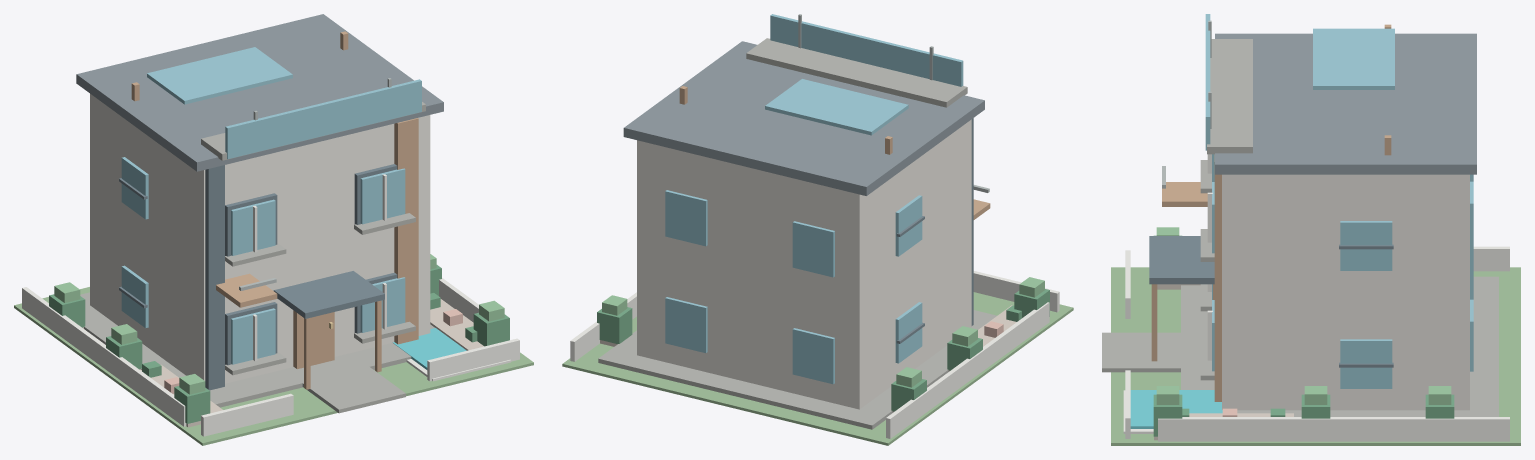
Rendered from building-type-u.gltf.
3 views of the same model, side by side, from view 1: azimuth 30°, elevation 25°; view 2: azimuth 150°, elevation 25°; view 3: azimuth 270°, elevation 25° (orthographic). The views are drawn at different scales.
Parts seen in each view (by area): view 1: Wall, DarkRoof, BlueGlass, Stone, Dark, White, Wood, Grass, TreeLeaf, LeafLight, WarmWall, Water; view 2: Wall, DarkRoof, BlueGlass, Stone, Grass, White, TreeLeaf, LeafLight, Dark, Wood; view 3: Wall, DarkRoof, Stone, BlueGlass, White, Grass, Wood, Dark, TreeLeaf, Water, LeafLight, WarmWall.
Part boxes in pixels (x1,y1,x2,y2): Wall: (90, 94, 430, 383); DarkRoof: (76, 14, 443, 171); BlueGlass: (121, 47, 421, 364); Stone: (80, 102, 434, 413); Dark: (119, 164, 397, 390); White: (22, 174, 519, 436); Wood: (131, 31, 418, 389); Grass: (14, 287, 533, 445); TreeLeaf: (49, 265, 509, 423); LeafLight: (54, 254, 504, 394); WarmWall: (82, 299, 483, 427); Water: (392, 328, 466, 369); Wall: (637, 119, 971, 409); DarkRoof: (623, 41, 984, 195); BlueGlass: (665, 14, 963, 384); Stone: (598, 38, 996, 429); Grass: (562, 292, 1073, 445); White: (570, 271, 1059, 438); TreeLeaf: (597, 289, 1049, 411); LeafLight: (602, 277, 1044, 387); Dark: (896, 118, 973, 343); Wood: (679, 86, 990, 219); Wall: (1222, 174, 1469, 410); DarkRoof: (1215, 33, 1476, 174); Stone: (1102, 39, 1498, 416); BlueGlass: (1205, 14, 1473, 388); White: (1123, 154, 1509, 441); Grass: (1111, 267, 1520, 445); Wood: (1151, 24, 1391, 401); Dark: (1149, 236, 1393, 367); TreeLeaf: (1153, 235, 1454, 436); Water: (1130, 390, 1222, 428); LeafLight: (1156, 227, 1451, 404); WarmWall: (1154, 284, 1293, 440).
Size of the model in its own units: 10.4 by 8.31 by 10.47.
